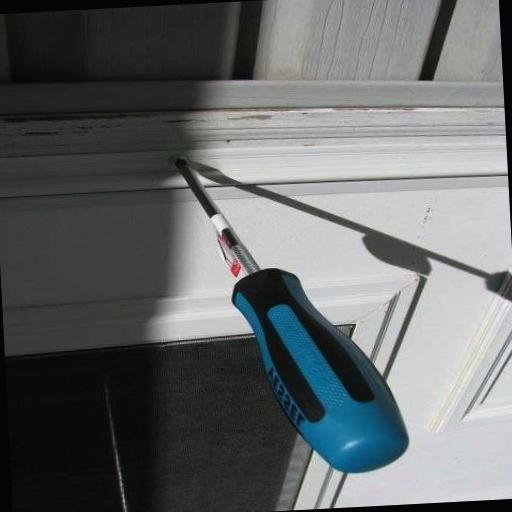screwdriver: (172, 146, 412, 482)
